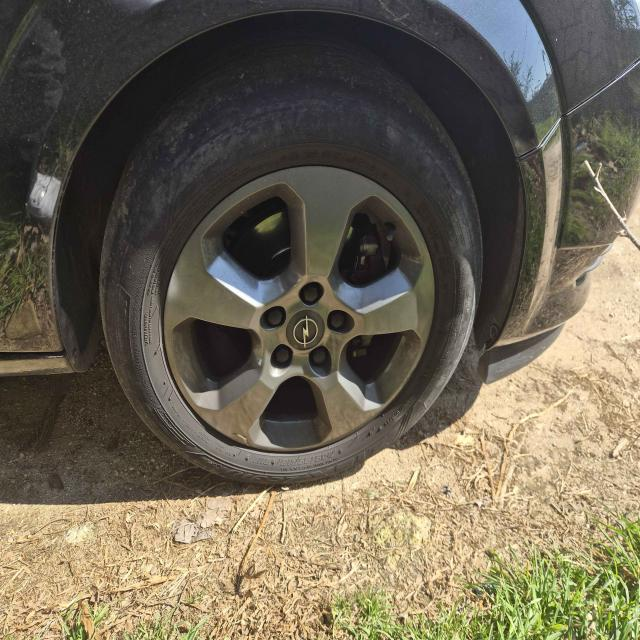jante: (162, 166, 436, 454)
parafuso: (328, 306, 346, 332), (310, 345, 329, 367), (273, 344, 290, 367), (301, 284, 319, 304), (268, 305, 282, 327)
roda: (100, 39, 484, 490)
